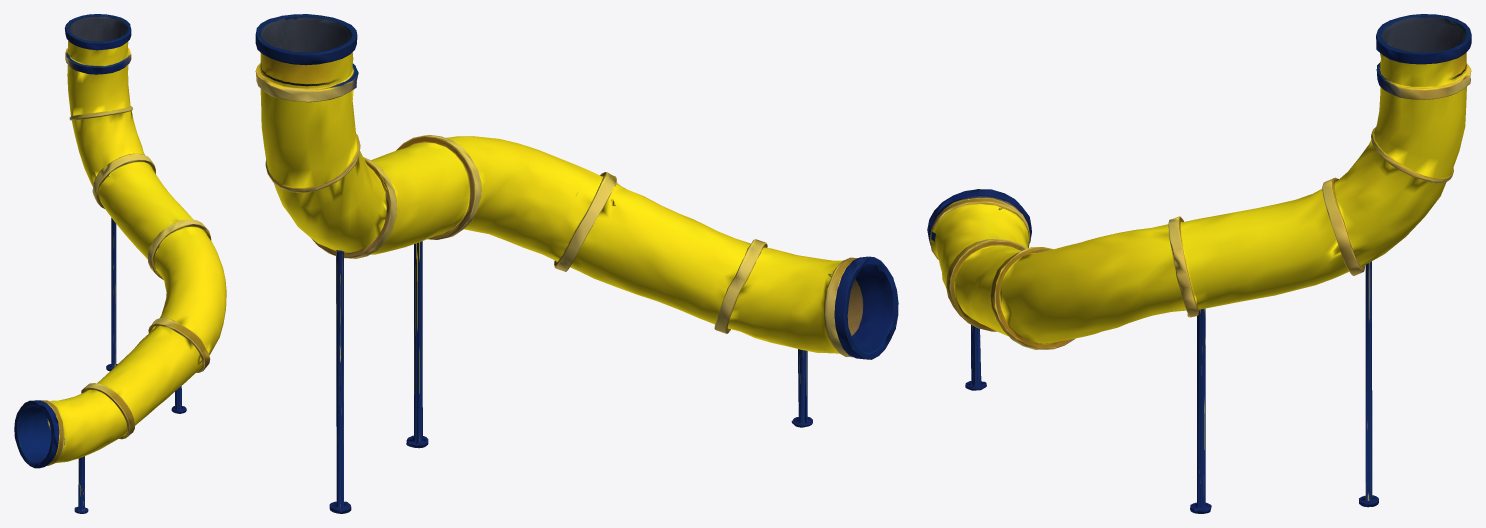
The model's file is slide-yellow.fbx.
3 renders of one model, left to right at view 1: azimuth 30°, elevation 25°; view 2: azimuth 150°, elevation 25°; view 3: azimuth 270°, elevation 25°, orthographic. The views are drawn at different scales.
Visible parts, largest first — view 1: Mesh_0; view 2: Mesh_0; view 3: Mesh_0.
Part boxes in pixels (<box>): Mesh_0: <box>14,14,226,513</box>; Mesh_0: <box>255,14,898,513</box>; Mesh_0: <box>927,14,1471,513</box>.
Size of the model in its own units: 73.24 by 90.72 by 94.38.
1 material, 1 textured.
